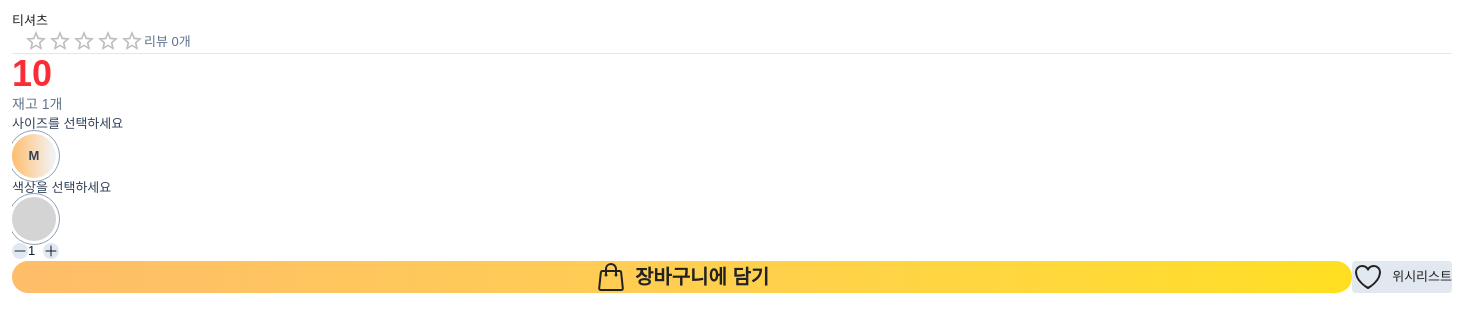
Test: 상품 정보 — 결제 중인 재고 › 0 개면 '재고보다 많은 수량' 이 아니라 품절이라고 말한다 — 검사 순서
What coordinates should you click on to do the following:
click the button "장바구니에 담기"
I would click on:
 (682, 277)
Its box is x1=12 y1=261 x2=1352 y2=293.
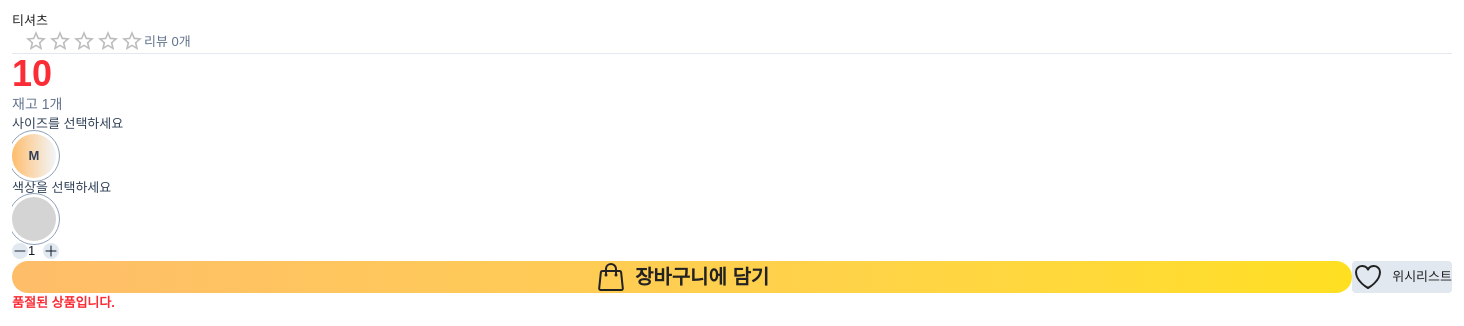
Now the text "품절된 상품입니다." is shown, box x1=12 y1=295 x2=115 y2=310
